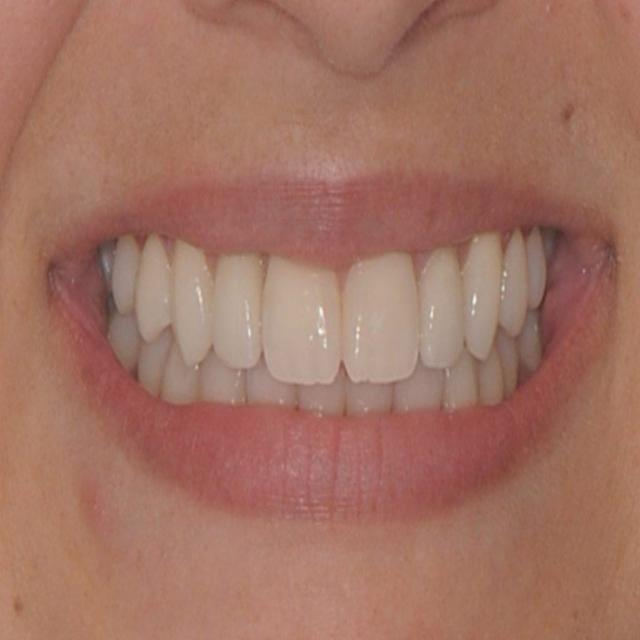tooth: (342, 252, 416, 384), (266, 254, 338, 384), (213, 258, 261, 366), (418, 258, 464, 360), (172, 246, 212, 360), (465, 242, 502, 348), (142, 230, 169, 331), (200, 355, 244, 409), (399, 368, 450, 414), (507, 239, 528, 337), (345, 372, 393, 410), (113, 240, 138, 311), (110, 308, 138, 368), (139, 335, 167, 388), (165, 360, 197, 402), (304, 383, 345, 413), (498, 323, 517, 387), (451, 373, 482, 410), (528, 228, 542, 308), (253, 368, 284, 404), (482, 354, 502, 404), (523, 327, 543, 368)
